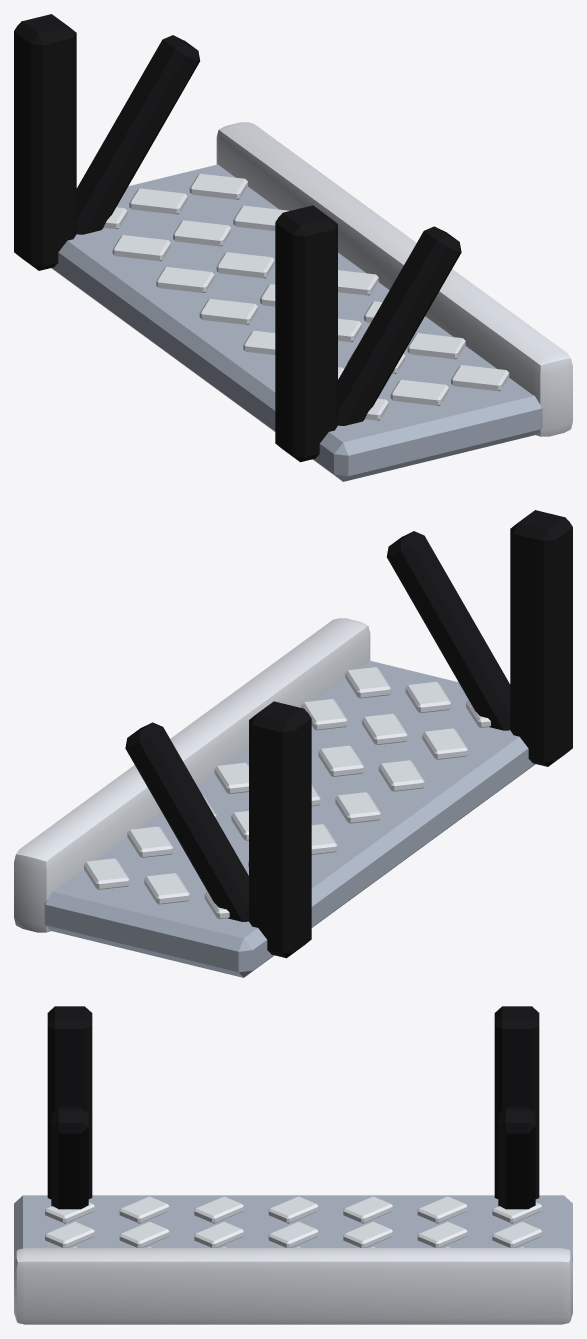
The model's file is step_metal.glb.
3 views of the same model, one above another, from view 1: azimuth 30°, elevation 25°; view 2: azimuth 150°, elevation 25°; view 3: azimuth 270°, elevation 25° (orthographic). The views are drawn at different scales.
Visible parts, largest first — view 1: plastic_black, steel, chrome; view 2: plastic_black, steel, chrome; view 3: chrome, plastic_black, steel.
Part boxes in pixels (x1,y1,x2,y2): plastic_black: (14, 14, 461, 462); steel: (51, 164, 542, 481); chrome: (103, 122, 572, 436); plastic_black: (125, 510, 572, 958); steel: (44, 660, 535, 977); chrome: (14, 618, 490, 932); chrome: (14, 1196, 572, 1324); plastic_black: (47, 1006, 539, 1209); steel: (14, 1195, 572, 1258).
Bounding box in the file's own units: 0.345 × 0.32 × 0.75.
